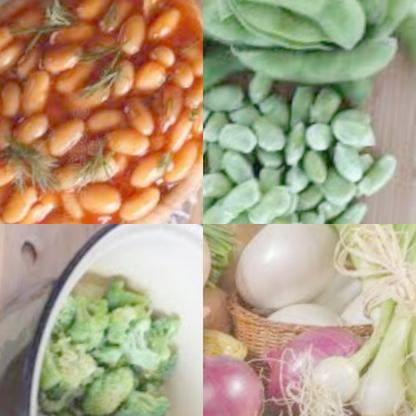beans: (0, 0, 203, 224), (203, 84, 398, 224), (203, 0, 416, 108)
broccoli: (20, 266, 203, 416)
onion: (241, 224, 353, 322), (264, 326, 362, 408), (203, 342, 275, 416), (268, 291, 358, 349), (306, 353, 369, 416), (351, 358, 416, 416)
